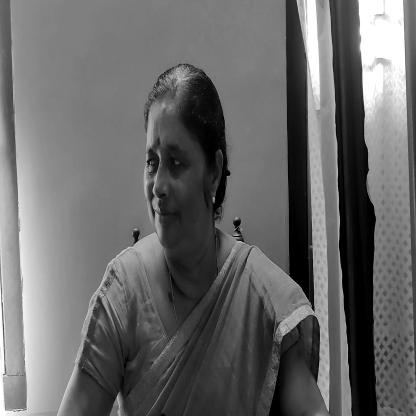Distracted: (143, 78, 210, 264)
